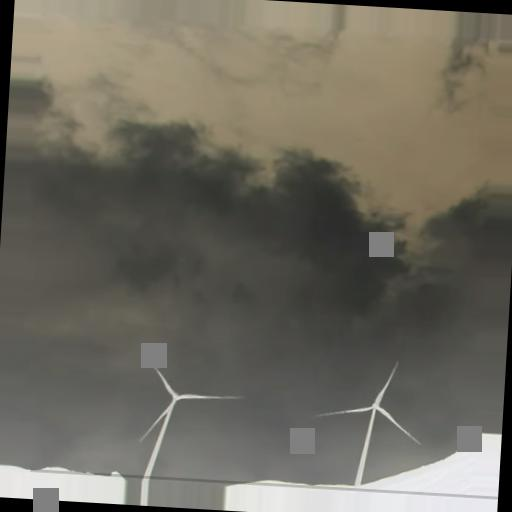wind turbine: (312, 357, 424, 480), (139, 357, 246, 479)
